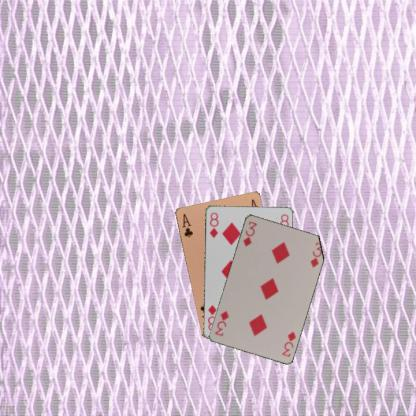3d: (240, 218, 258, 248), (279, 328, 297, 358)
8d: (207, 210, 219, 239)
Ac: (179, 211, 194, 239)
